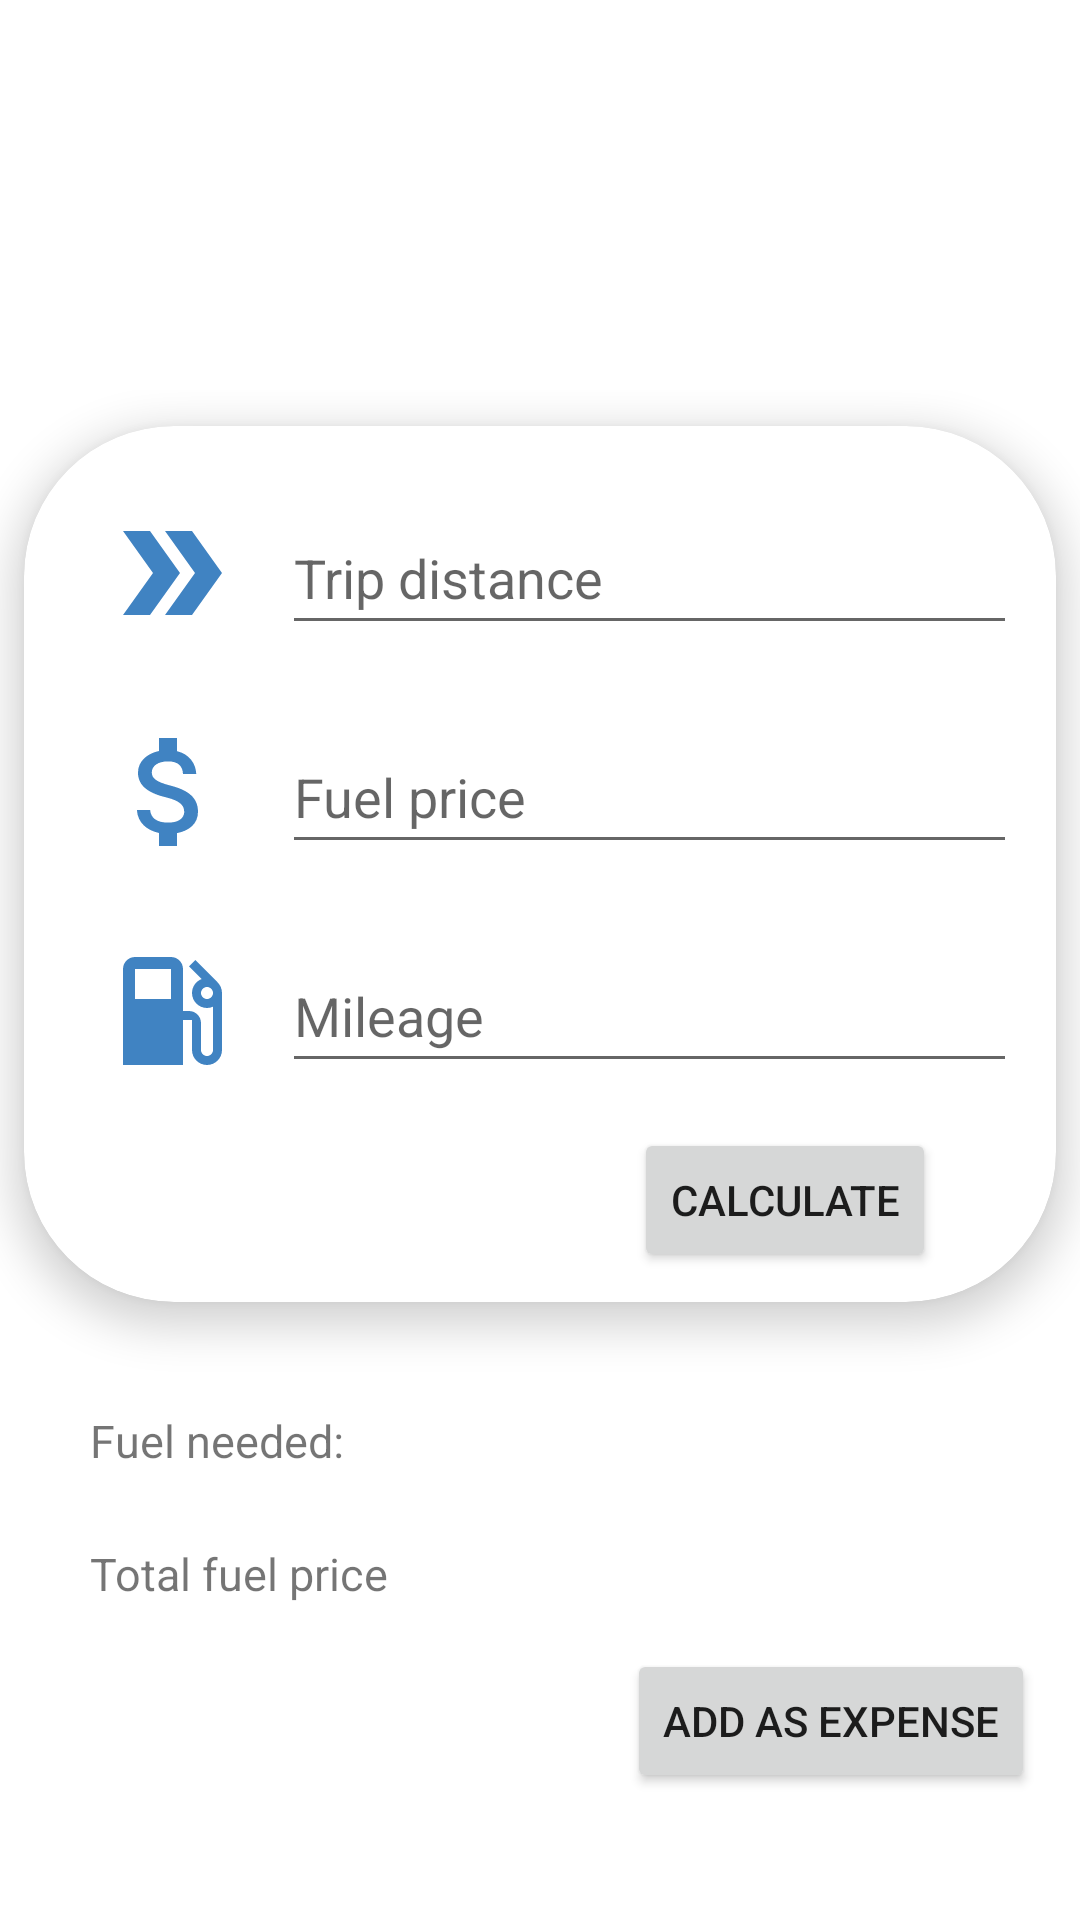

Named icons in this screenshot (1080w x 1920h) and their bounding boxes, (left=x1, top=y1, right=x2, bottom=y2):
fuel calculator: (left=123, top=957, right=222, bottom=1065)
